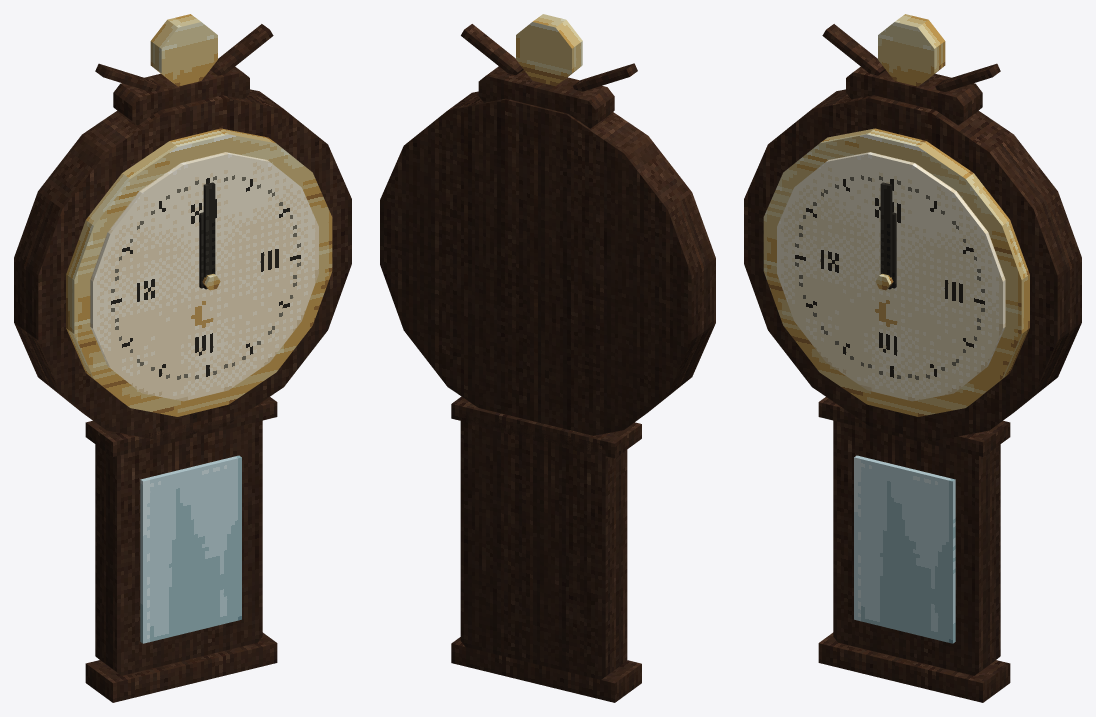
File: clock.glb
The picture shows the model from 3 angles, left to right: view 1: azimuth 30°, elevation 25°; view 2: azimuth 150°, elevation 25°; view 3: azimuth 330°, elevation 25°; orthographic projection.
Parts seen in each view (by area): view 1: dial, case, pcase, pglass, bezel, pfoot, crestmoon, crestbase, ptop, hand_m, leafc_1, leafc; view 2: case, pcase, pfoot, crestbase, crestmoon, ptop, leafc_1, leafc; view 3: dial, case, pcase, pglass, bezel, pfoot, crestmoon, crestbase, ptop, hand_m, leafc, leafc_1.
Boxes of the visible parts, <box> form: dial: <box>90,152,318,401</box>; case: <box>14,89,351,440</box>; pcase: <box>95,420,262,675</box>; pglass: <box>140,455,241,643</box>; bezel: <box>66,128,332,416</box>; pfoot: <box>85,632,277,702</box>; crestmoon: <box>150,14,217,86</box>; crestbase: <box>113,67,249,125</box>; ptop: <box>85,397,277,456</box>; hand_m: <box>203,182,215,289</box>; leafc_1: <box>210,24,273,75</box>; leafc: <box>95,63,160,91</box>; case: <box>380,91,715,435</box>; pcase: <box>460,412,627,679</box>; pfoot: <box>451,637,641,702</box>; crestbase: <box>478,66,614,128</box>; crestmoon: <box>516,14,582,86</box>; ptop: <box>451,396,641,458</box>; leafc_1: <box>461,24,523,75</box>; leafc: <box>573,63,637,91</box>; dial: <box>777,152,1005,401</box>; case: <box>744,89,1081,441</box>; pcase: <box>833,420,1000,675</box>; pglass: <box>854,455,955,643</box>; bezel: <box>763,128,1029,416</box>; pfoot: <box>818,632,1010,702</box>; crestmoon: <box>878,14,945,86</box>; crestbase: <box>846,67,982,125</box>; ptop: <box>818,397,1010,456</box>; hand_m: <box>880,182,892,289</box>; leafc: <box>822,24,885,75</box>; leafc_1: <box>935,63,1000,91</box>.
Size of the model in its own units: 1.33 by 2.66 by 0.335.
Materials: 1 (1 with a texture image).
